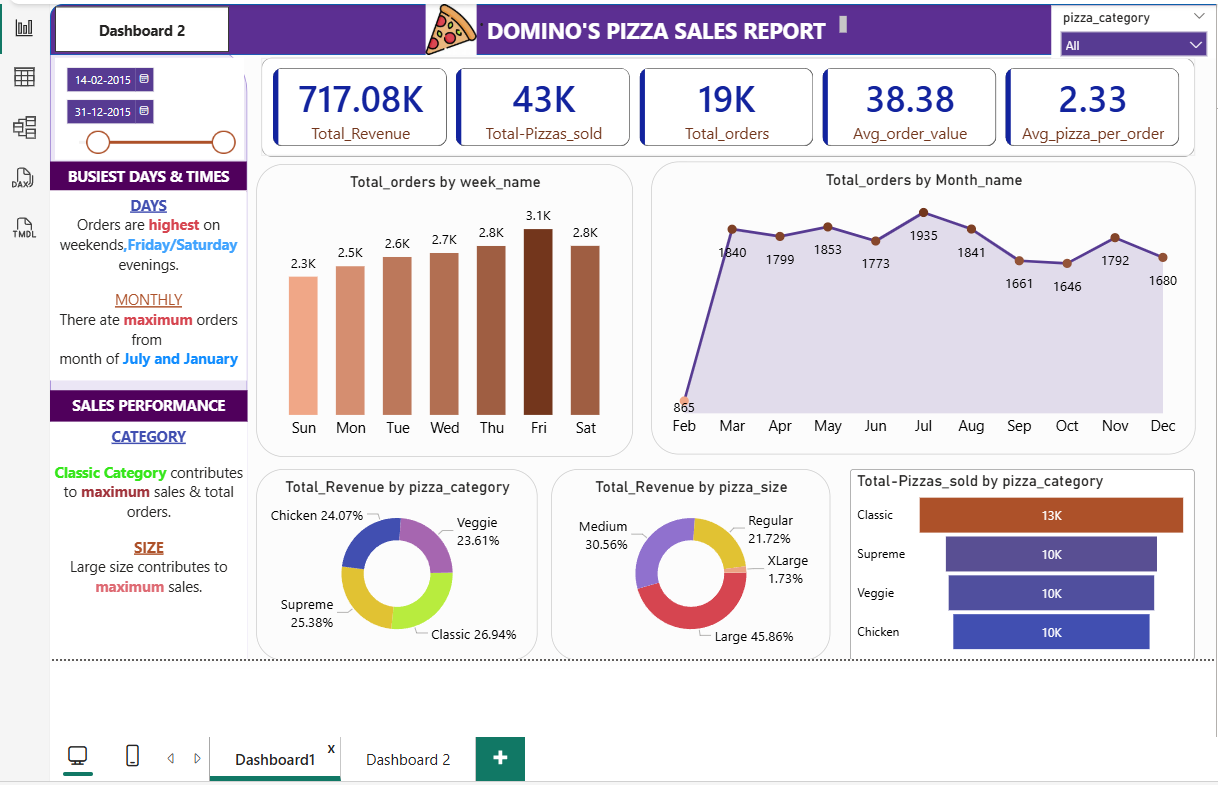

This screenshot's page, from the dashboard's own definition file:
{"tool":"powerbi","page":{"name":"Dashboard1","canvas":[1280,720],"ordinal":0},"visuals":[{"type":"textbox","box":[0,345.8,216.8,13.7],"z":0},{"type":"cardVisual","fields":{"Data":["pizza_data.Total_Revenue","pizza_data.Total-Pizzas_sold","pizza_data.Total_orders","pizza_data.Avg_order_value","pizza_data.Avg_pizza_perorder"]},"box":[232.5,58.8,1025,108.8],"z":1000},{"type":"shape","box":[0,42.5,216.8,677.9],"z":2000},{"type":"shape","box":[0,0,1478.8,56.2],"z":3000},{"type":"textbox","box":[441.2,8.8,437.5,40],"z":4000},{"type":"clusteredColumnChart","fields":{"Y":["pizza_data.Total_orders"],"Category":["calendar_table.week_name"]},"box":[226.2,176.2,413.8,321.2],"z":5000},{"type":"areaChart","fields":{"Category":["calendar_table.Month_name"],"Y":["pizza_data.Total_orders"]},"box":[660,172.5,597.5,321.2],"z":6000},{"type":"actionButton","box":[0,0,100,40],"z":7000},{"type":"donutChart","fields":{"Category":["pizza_data.pizza_category"],"Y":["pizza_data.Total_Revenue"]},"box":[226.4,510.5,360.9,209.9],"z":8000},{"type":"donutChart","fields":{"Category":["pizza_data.pizza_size"],"Y":["pizza_data.Total_Revenue"]},"box":[587.3,510.5,306,209.9],"z":9000},{"type":"funnel","fields":{"Category":["pizza_data.pizza_category"],"Y":["pizza_data.Total-Pizzas_sold"]},"box":[904.3,510.5,352.7,209.9],"z":10000},{"type":"textbox","box":[0,172.5,216.2,33.8],"z":11000},{"type":"textbox","box":[0,205,216.2,208.8],"z":12000},{"type":"textbox","box":[0,458.3,216.8,262.1],"z":13000},{"type":"textbox","box":[0,424,216.8,34.3],"z":14000},{"type":"slicer","fields":{"Values":["pizza_data.pizza_category"]},"box":[1098.6,1.4,181.4,58.6],"z":15000},{"type":"slicer","fields":{"Values":["pizza_data.order_date"]},"box":[5,58.8,206.2,111.2],"z":16000},{"type":"image","box":[407.1,0,65.7,55.7],"z":17000},{"type":"pageNavigator","box":[5.7,2.9,191.4,50],"z":18000}]}

Visuals, with their boxes on the page's 1280x720 design canvas (x1, y1, x2, y2). These are canvas units, not pixel positions in the 1218x785 screenshot, which may show the page scaled, cropped or inside an application window:
textbox: BBox(0, 346, 217, 360)
cardVisual - pizza_data.Total_Revenue x pizza_data.Total-Pizzas_sold: BBox(232, 59, 1258, 168)
shape: BBox(0, 42, 217, 720)
shape: BBox(0, 0, 1479, 56)
textbox: BBox(441, 9, 879, 49)
clusteredColumnChart - pizza_data.Total_orders x calendar_table.week_name: BBox(226, 176, 640, 497)
areaChart - calendar_table.Month_name x pizza_data.Total_orders: BBox(660, 172, 1258, 494)
actionButton: BBox(0, 0, 100, 40)
donutChart - pizza_data.pizza_category x pizza_data.Total_Revenue: BBox(226, 510, 587, 720)
donutChart - pizza_data.pizza_size x pizza_data.Total_Revenue: BBox(587, 510, 893, 720)
funnel - pizza_data.pizza_category x pizza_data.Total-Pizzas_sold: BBox(904, 510, 1257, 720)
textbox: BBox(0, 172, 216, 206)
textbox: BBox(0, 205, 216, 414)
textbox: BBox(0, 458, 217, 720)
textbox: BBox(0, 424, 217, 458)
slicer - pizza_data.pizza_category: BBox(1099, 1, 1280, 60)
slicer - pizza_data.order_date: BBox(5, 59, 211, 170)
image: BBox(407, 0, 473, 56)
pageNavigator: BBox(6, 3, 197, 53)
